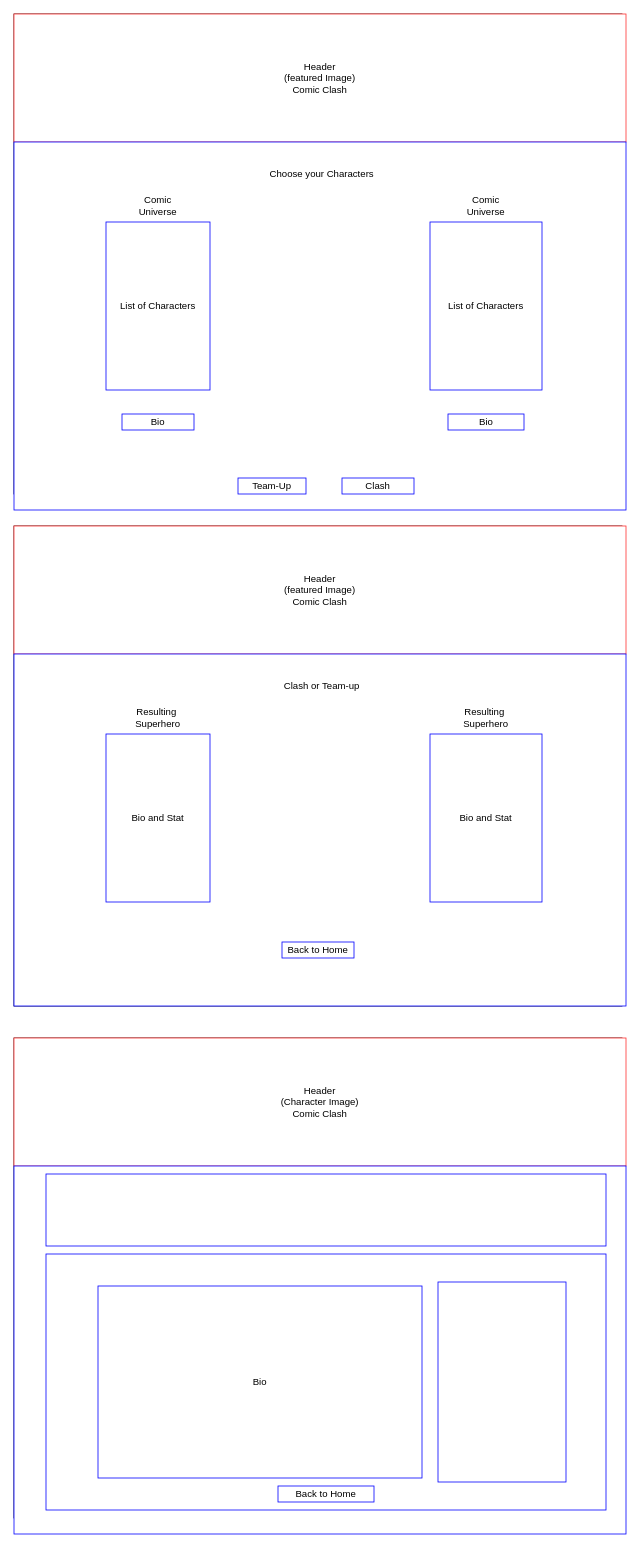
The diagram is 640 pixels wide and 1548 high, and some of its shapes have lost their labels. Each missing label, with the centre of its shape:
"Attributes" belongs at point (501, 1381).
"Stats" belongs at point (325, 1209).
